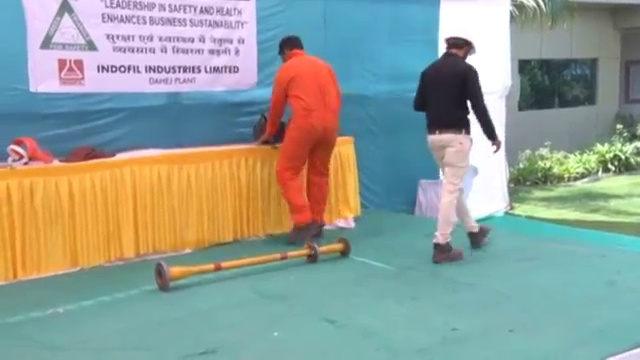helmet: (442, 26, 479, 55)
helmet_off: (279, 34, 305, 62)
helmet_on: (441, 26, 479, 69)
person: (414, 26, 502, 263), (264, 36, 343, 245)
